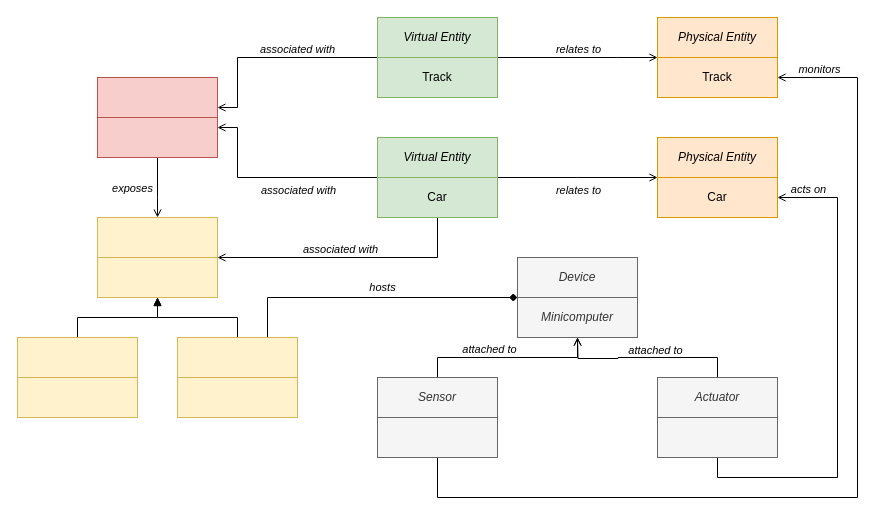
Some shapes in this 883 by 523 pixel diagram are drawn without their labels. The shapes that lost their labels are listed below. From the top down, each one's centre as x and y in pixels, then its label:
point 157,97: Service
point 157,237: Resource
point 77,357: Network Resource
point 237,357: OnDevice Resource
point 437,437: Camera
point 717,437: Motor Driver
